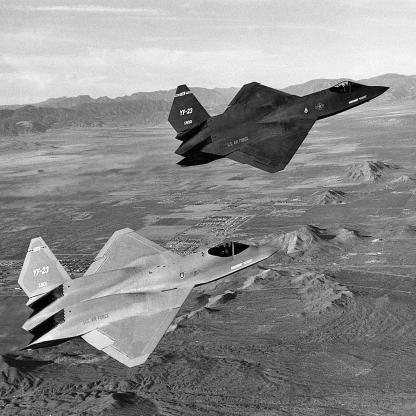YF23: (18, 228, 283, 371), (168, 82, 392, 175)
